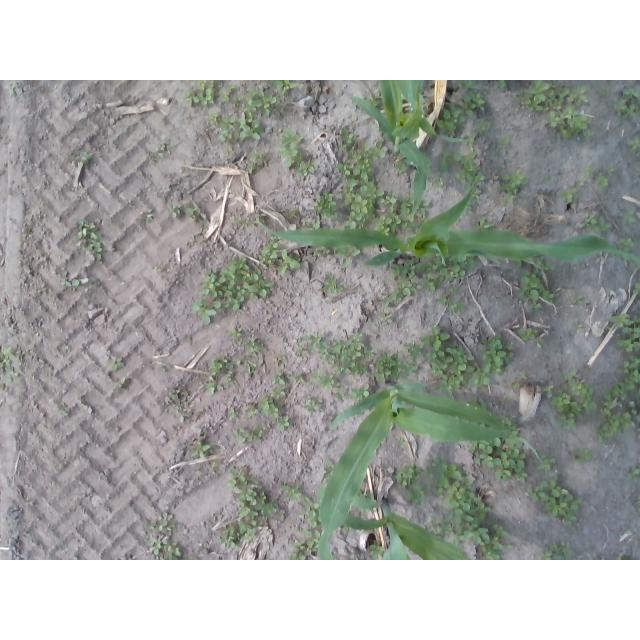Maize: (239, 166, 640, 266), (318, 383, 511, 560), (348, 80, 470, 220), (345, 496, 468, 560), (397, 80, 424, 140)
Weeds: (426, 454, 491, 528), (201, 255, 274, 309), (302, 332, 367, 376), (226, 465, 278, 520), (529, 474, 582, 526), (469, 439, 528, 484), (425, 346, 475, 397), (446, 521, 510, 560), (343, 176, 386, 229), (518, 81, 586, 112), (142, 512, 183, 561), (337, 141, 384, 180), (370, 352, 420, 384), (541, 111, 595, 140), (481, 333, 516, 375), (515, 273, 553, 308), (594, 408, 634, 441), (220, 517, 261, 547), (554, 387, 582, 430), (397, 462, 423, 506), (601, 379, 635, 410), (245, 87, 276, 117), (565, 369, 594, 401), (185, 80, 216, 106), (419, 326, 450, 351), (237, 109, 262, 139), (314, 193, 339, 219), (539, 541, 575, 559), (519, 256, 556, 273), (501, 170, 527, 194), (193, 299, 216, 326), (375, 213, 401, 235), (301, 497, 319, 527), (0, 344, 18, 373), (234, 426, 266, 442), (282, 127, 305, 149), (166, 388, 190, 408), (280, 250, 300, 274), (391, 260, 421, 276), (454, 152, 478, 171), (439, 264, 465, 281), (321, 272, 343, 292), (617, 355, 640, 374), (311, 372, 342, 386), (436, 110, 456, 131), (291, 540, 312, 560), (259, 395, 278, 417), (463, 92, 486, 110), (392, 278, 412, 298), (338, 247, 359, 266), (244, 336, 265, 354), (617, 337, 640, 353), (405, 341, 424, 360), (77, 219, 96, 238), (238, 358, 256, 378), (190, 439, 210, 457), (86, 240, 102, 261), (518, 327, 540, 342), (537, 451, 555, 469), (471, 369, 489, 387), (280, 149, 297, 168), (305, 531, 324, 548), (219, 119, 233, 142), (572, 449, 593, 464), (452, 108, 473, 123), (434, 288, 452, 305), (302, 396, 322, 411), (275, 81, 296, 95), (595, 218, 613, 234), (352, 383, 371, 398), (280, 485, 300, 499), (378, 191, 395, 206), (612, 314, 633, 326), (208, 359, 221, 377), (617, 238, 635, 251), (439, 150, 450, 170), (455, 169, 470, 183), (563, 188, 577, 203), (420, 199, 431, 218), (185, 202, 198, 218), (336, 387, 349, 403), (368, 544, 384, 557), (342, 127, 354, 144), (276, 416, 289, 431), (478, 119, 493, 132), (476, 216, 492, 228), (620, 210, 636, 222), (624, 326, 640, 338), (274, 386, 288, 399), (322, 455, 332, 473), (400, 198, 411, 214), (459, 80, 478, 89), (315, 247, 332, 257), (615, 98, 625, 115), (110, 355, 122, 369), (583, 401, 598, 412), (273, 371, 288, 382), (624, 106, 636, 119), (586, 212, 599, 224), (402, 215, 414, 228), (454, 299, 467, 311), (227, 326, 241, 337), (173, 203, 184, 217), (258, 354, 266, 372), (300, 161, 312, 173), (295, 344, 306, 357), (269, 234, 280, 247), (625, 87, 639, 97), (379, 313, 393, 323), (62, 272, 71, 287), (382, 293, 391, 308), (223, 358, 234, 370), (629, 469, 640, 481), (204, 382, 215, 394), (396, 162, 407, 174), (628, 138, 639, 150), (423, 278, 434, 290), (628, 371, 640, 382), (254, 150, 267, 160), (288, 207, 301, 217), (260, 247, 273, 257), (597, 174, 607, 187), (228, 407, 238, 420), (248, 403, 257, 417), (56, 405, 67, 416), (397, 436, 408, 447), (73, 278, 88, 286), (466, 134, 474, 149), (571, 295, 583, 305), (504, 417, 516, 427), (426, 262, 439, 271), (273, 355, 283, 366), (7, 84, 17, 95), (82, 152, 93, 162), (245, 160, 255, 171), (243, 219, 265, 224), (433, 175, 443, 185), (211, 115, 222, 124), (227, 370, 234, 382), (296, 152, 303, 164), (588, 165, 595, 177), (473, 190, 482, 199), (162, 363, 170, 373), (502, 136, 512, 144), (209, 458, 219, 466), (634, 283, 640, 296), (233, 97, 240, 108), (512, 381, 521, 389), (162, 146, 171, 154), (155, 149, 163, 158), (24, 226, 33, 234), (602, 88, 611, 96), (505, 194, 515, 201), (146, 215, 154, 223), (574, 321, 582, 329), (228, 85, 237, 92), (271, 252, 278, 261), (633, 316, 640, 324), (70, 155, 79, 161), (499, 80, 505, 89), (469, 172, 475, 181), (497, 198, 506, 204), (218, 383, 225, 390), (222, 94, 228, 102), (580, 178, 586, 186), (238, 216, 243, 225), (259, 256, 266, 262), (544, 386, 552, 391), (620, 552, 625, 560), (155, 268, 162, 273), (606, 168, 613, 173), (545, 175, 550, 181)
